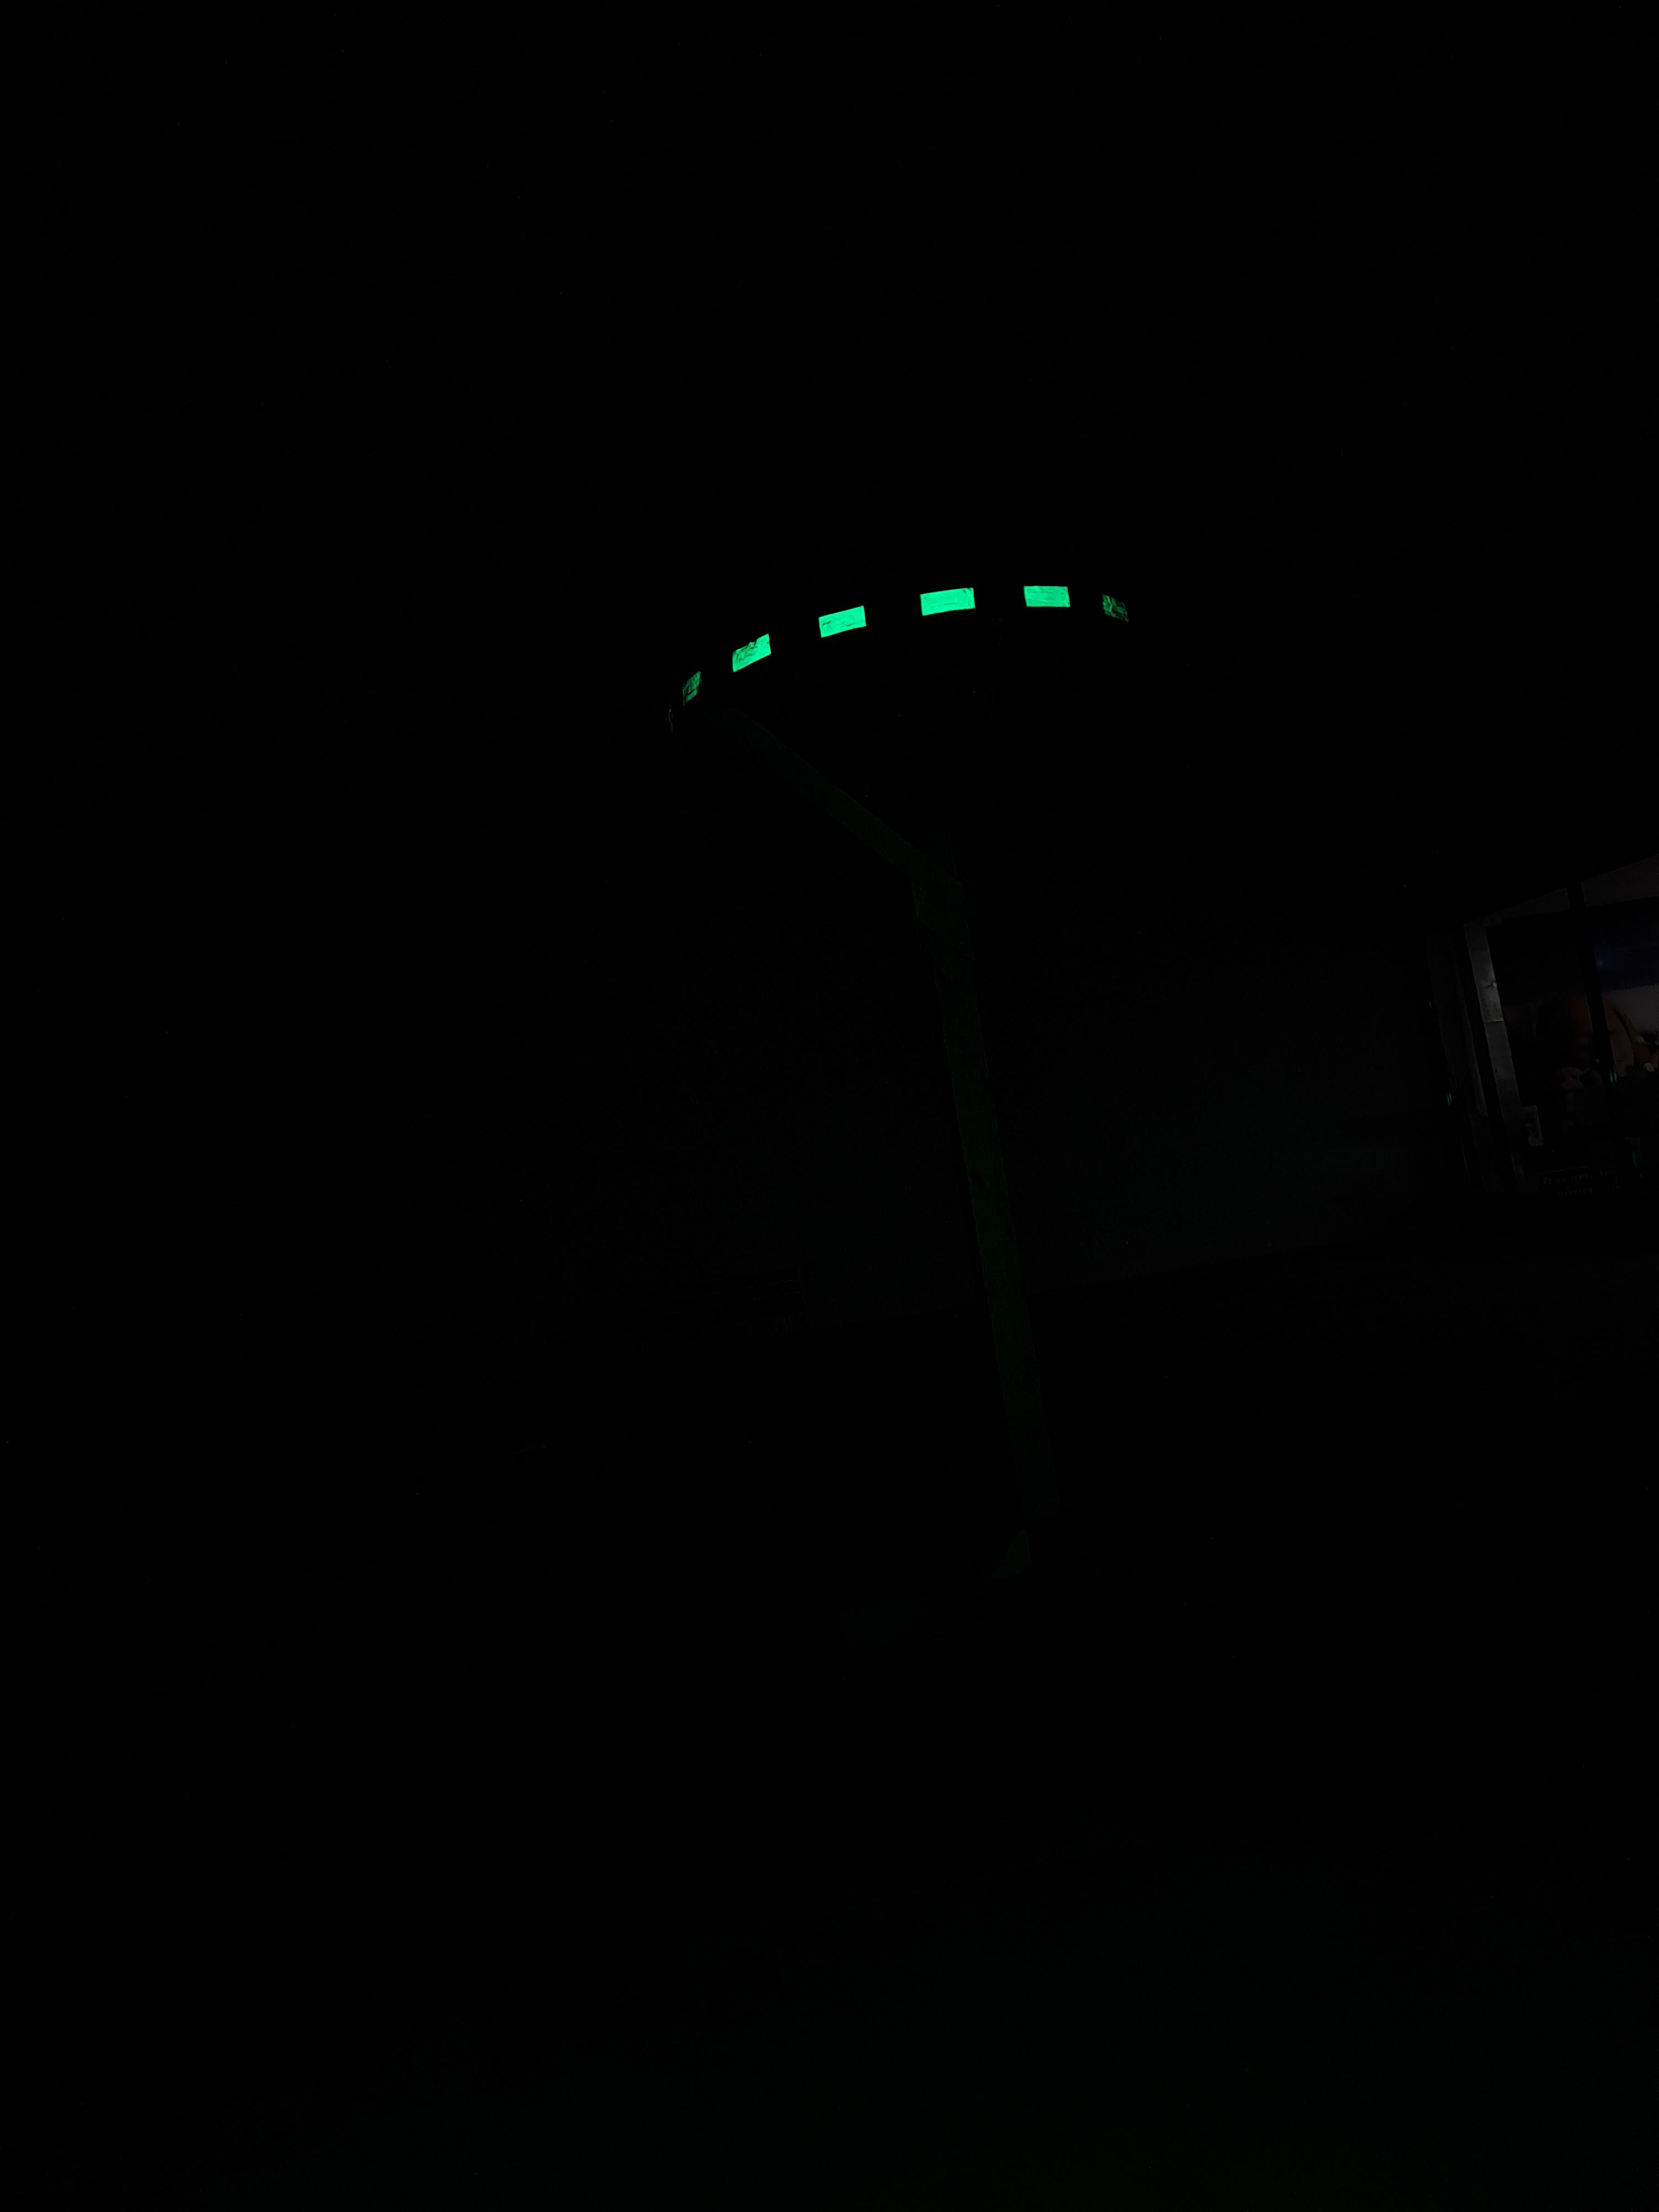hoop: (643, 529, 1145, 738)
